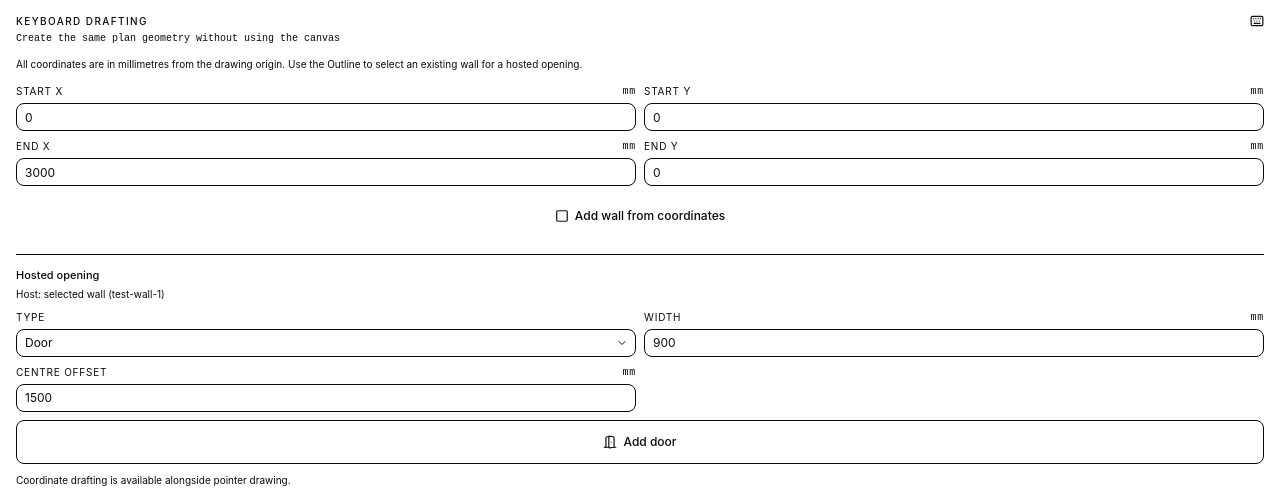
Scenario: AccessibleDraftingPanel › opening form › opening form validates numeric inputs and shows validation message on failure
Replace the text in the field labelled "Width mm" with "invalid-width" at [954, 342], box [644, 328, 1264, 356]
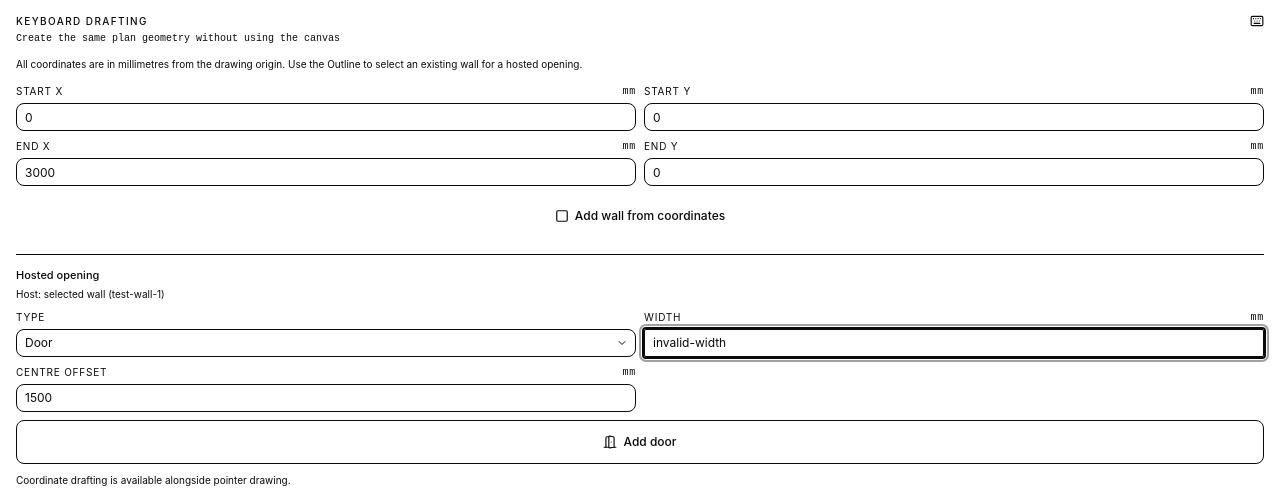
Click the button "Add door".
click(640, 442)  # box [16, 420, 1264, 464]
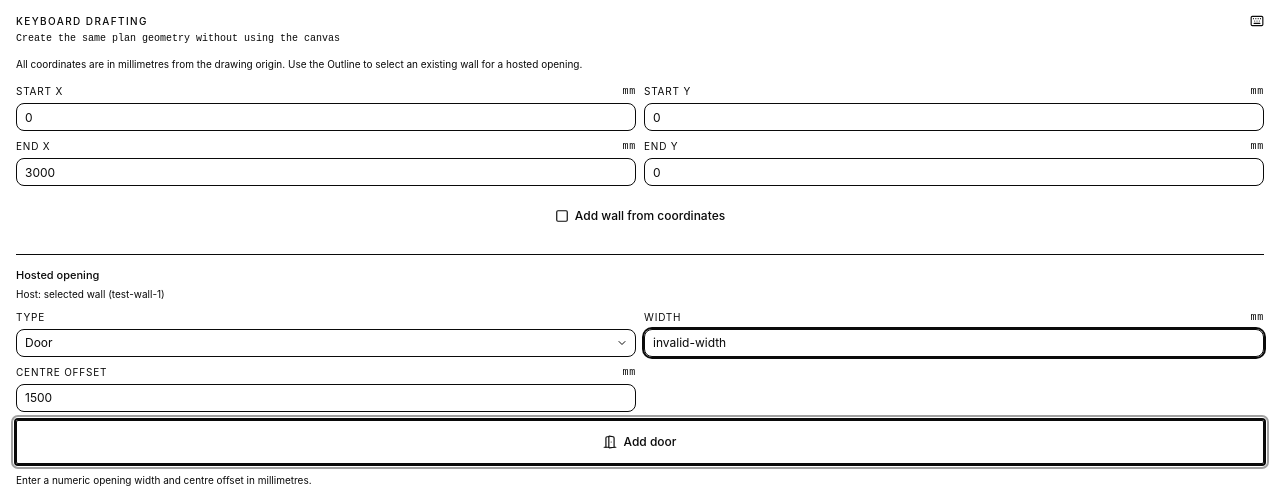
Check: the text "Enter a numeric opening width and centre offset" is shown, box [16, 474, 312, 486]
